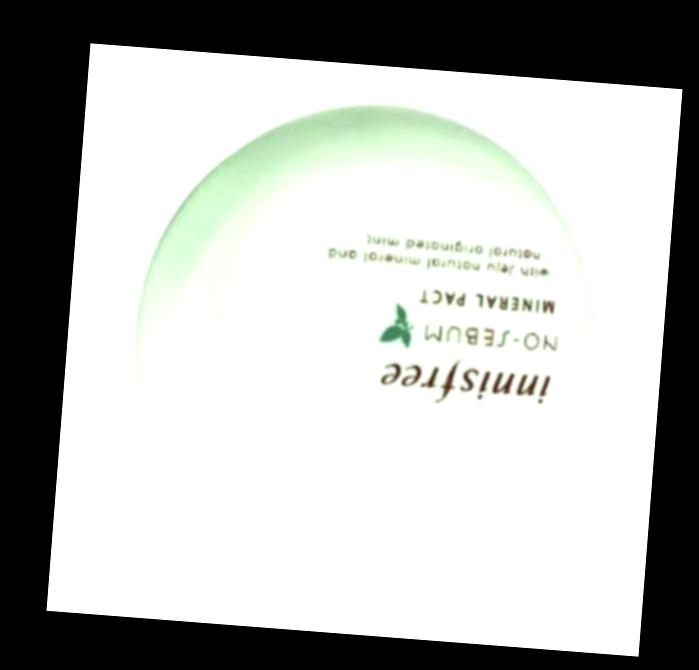cosmetic: (113, 83, 616, 599)
